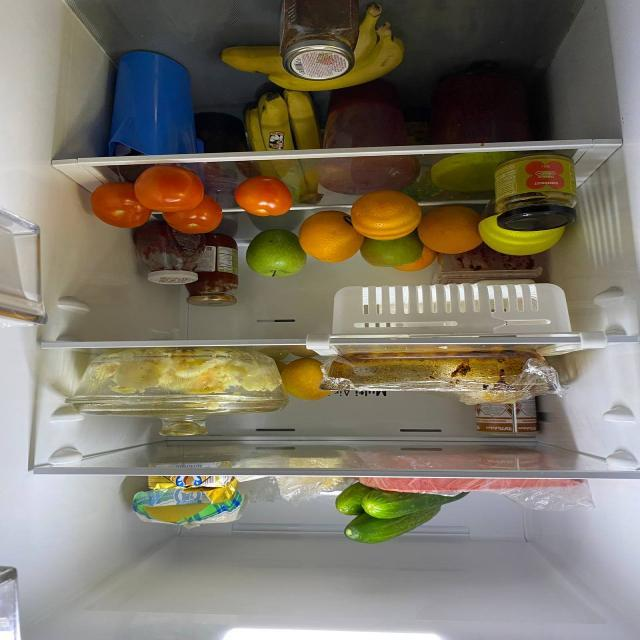Apple: (246, 231, 306, 282), (360, 233, 426, 266), (286, 358, 336, 401)
Banana: (208, 19, 408, 88), (245, 91, 327, 207)
Cucumber: (340, 511, 458, 541), (363, 495, 477, 518), (339, 487, 381, 515)
Orange: (348, 190, 430, 239), (296, 213, 371, 265), (418, 205, 490, 253), (398, 245, 436, 273)
Tomato: (86, 176, 148, 232), (136, 168, 206, 213), (231, 178, 293, 216), (160, 199, 222, 236)
